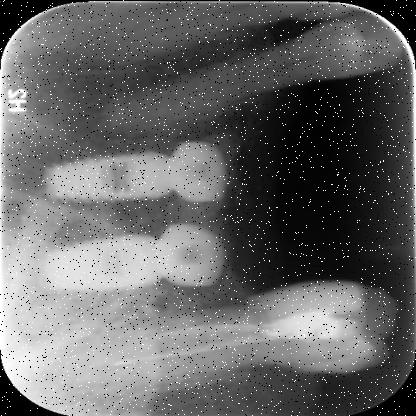Bicon: (36, 146, 174, 208), (37, 232, 161, 294)
